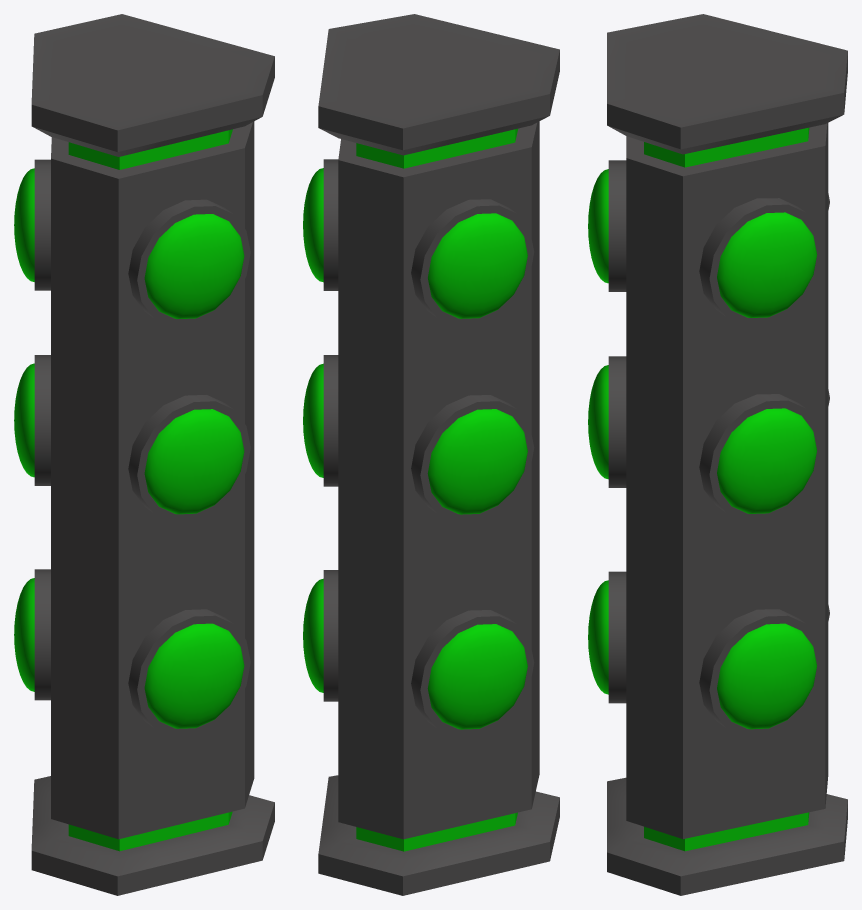
File: Robot_Pillar_Middle.fbx
The picture shows the model from 3 angles, left to right: view 1: azimuth 30°, elevation 25°; view 2: azimuth 150°, elevation 25°; view 3: azimuth 270°, elevation 25°; orthographic projection.
Parts seen in each view (by area): view 1: polySurface84, pSphere33, pSphere34, pSphere32, pSphere29, pSphere31, pSphere30; view 2: polySurface84, pSphere29, pSphere31, pSphere30, pSphere37, pSphere35, pSphere36; view 3: polySurface84, pSphere36, pSphere37, pSphere35, pSphere34, pSphere32, pSphere33.
Boxes of the visible parts, left/top/right/bottom form: polySurface84: left=31, top=14, right=274, bottom=895; pSphere33: left=128, top=199, right=250, bottom=326; pSphere34: left=128, top=609, right=250, bottom=736; pSphere32: left=128, top=395, right=250, bottom=521; pSphere29: left=14, top=159, right=50, bottom=290; pSphere31: left=14, top=569, right=50, bottom=700; pSphere30: left=14, top=355, right=50, bottom=485; polySurface84: left=318, top=14, right=559, bottom=895; pSphere29: left=411, top=199, right=534, bottom=326; pSphere31: left=411, top=610, right=534, bottom=736; pSphere30: left=411, top=395, right=534, bottom=521; pSphere37: left=303, top=159, right=338, bottom=290; pSphere35: left=303, top=355, right=338, bottom=486; pSphere36: left=303, top=570, right=338, bottom=701; polySurface84: left=607, top=14, right=847, bottom=895; pSphere36: left=699, top=609, right=823, bottom=736; pSphere37: left=699, top=198, right=823, bottom=325; pSphere35: left=699, top=394, right=823, bottom=521; pSphere34: left=588, top=571, right=626, bottom=703; pSphere32: left=588, top=356, right=626, bottom=487; pSphere33: left=588, top=160, right=626, bottom=291.
Size of the model in its own units: 0.9478 by 0.9157 by 3.01.
